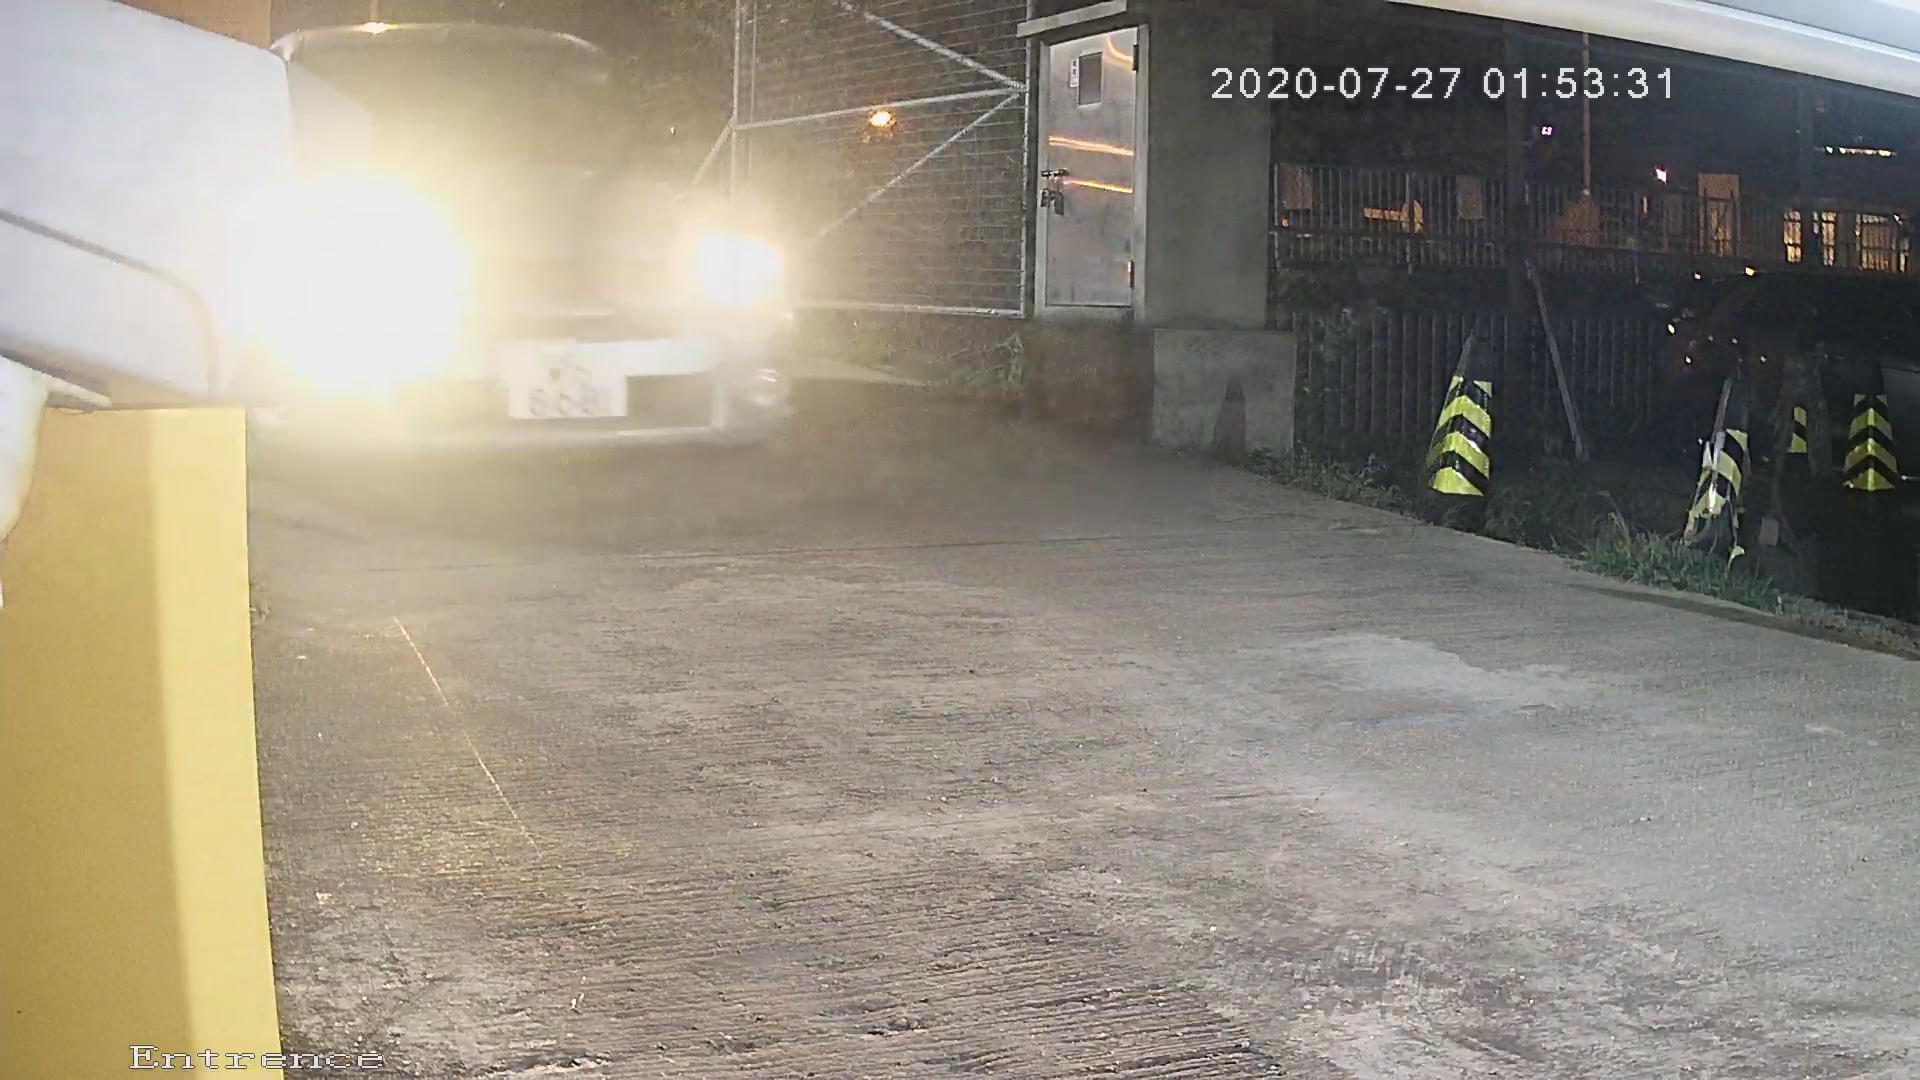License Plate: (463, 304, 686, 449)
